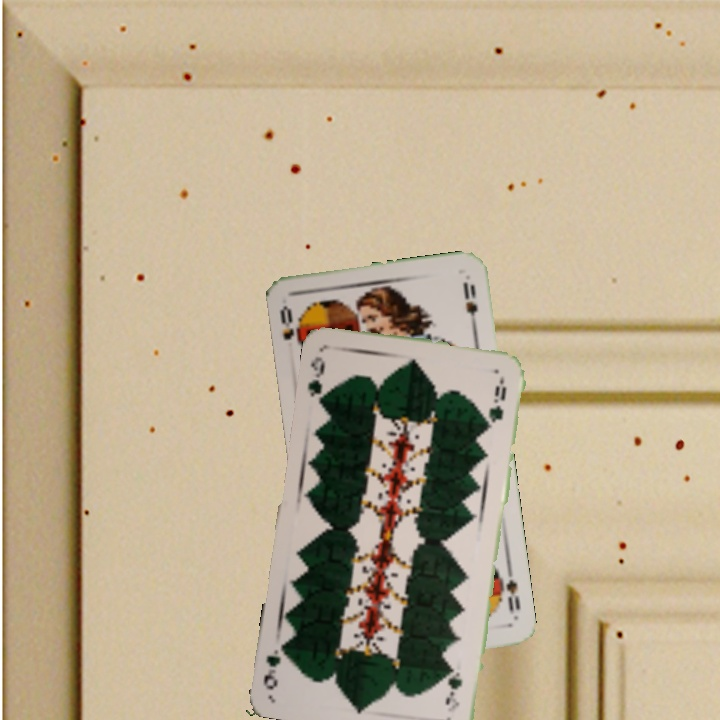G9: (303, 352, 329, 406), (442, 665, 465, 714)
SO: (493, 562, 523, 621), (276, 301, 305, 354)
